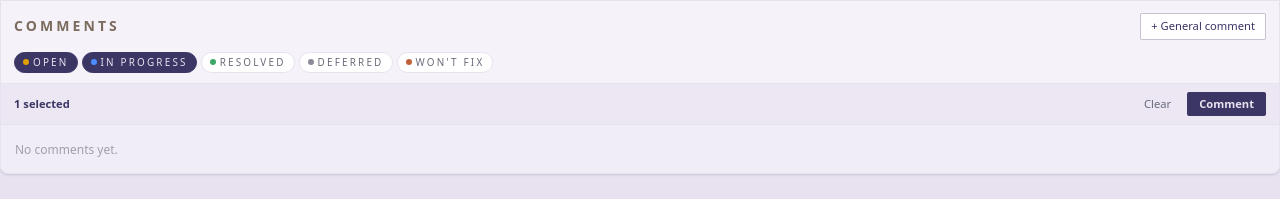
Test case: CommentGutter › Clear empties the selection
expect the text "1 selected" is shown: met, box [14,96,70,112]
What coordinates should you click on to do the following:
click the button "Clear"
I would click on:
 (1158, 104)
Its box is [1136,92,1179,116].
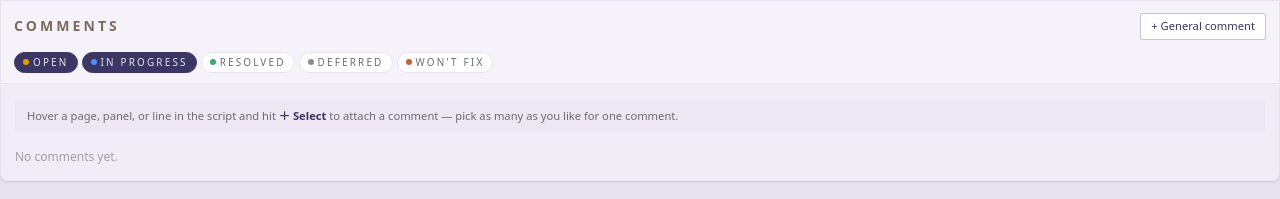
expect the text "selected" is gone: met
